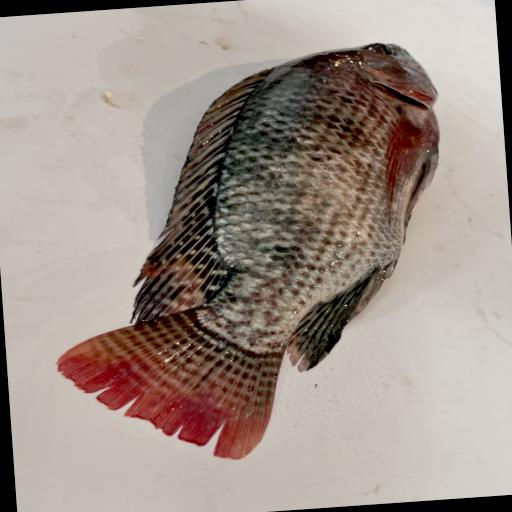Tilapia: (35, 39, 464, 473)
